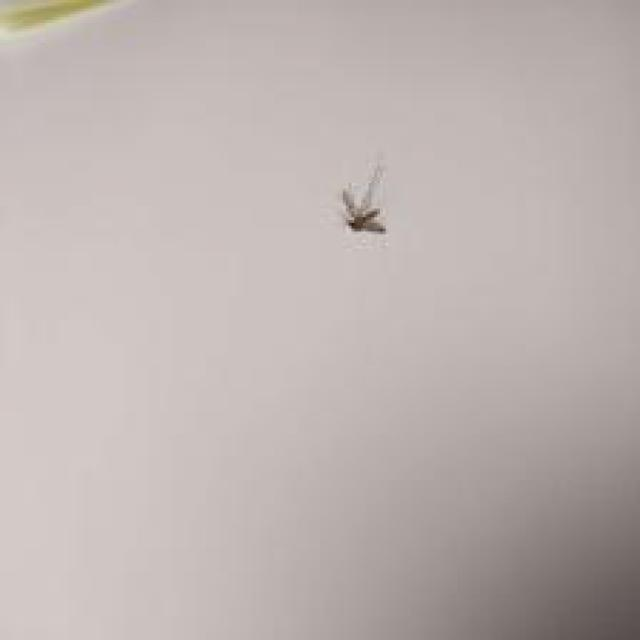Culex: (339, 163, 387, 234)
